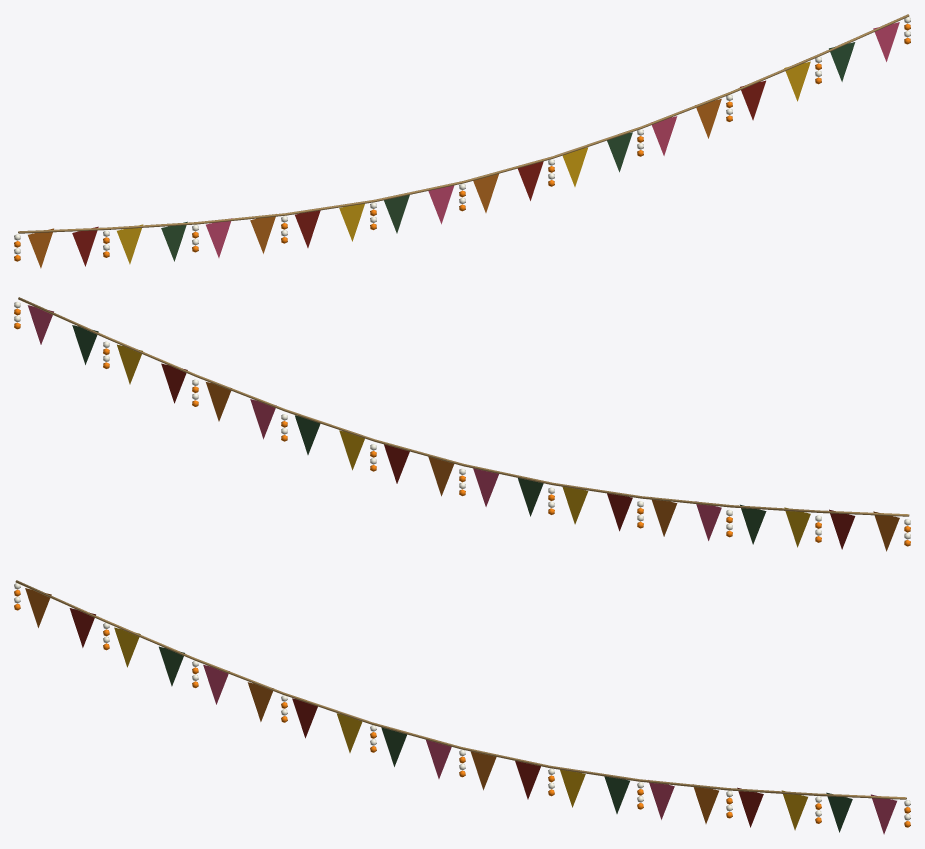
File: PRP_Festival_Bunting_A.glb
The picture shows the model from 3 angles, top to bottom: view 1: azimuth 30°, elevation 25°; view 2: azimuth 150°, elevation 25°; view 3: azimuth 330°, elevation 25°; orthographic projection.
Visible parts, largest first — view 1: PRP_Festival_Bunting_A_Mesh; view 2: PRP_Festival_Bunting_A_Mesh; view 3: PRP_Festival_Bunting_A_Mesh.
Boxes of the visible parts, <box> form: PRP_Festival_Bunting_A_Mesh: <box>14,14,910,268</box>; PRP_Festival_Bunting_A_Mesh: <box>14,297,910,551</box>; PRP_Festival_Bunting_A_Mesh: <box>14,580,910,834</box>.
Size of the model in its own units: 8.05 by 0.827 by 0.0555.
